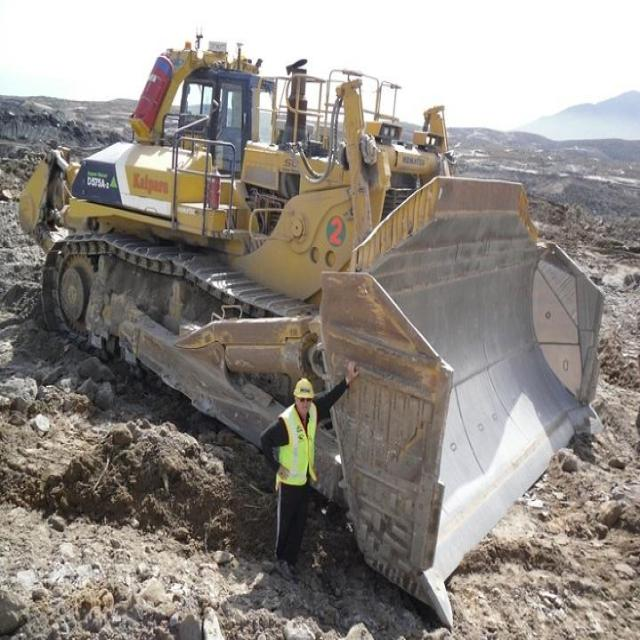buldozerpayloadergrader: (22, 20, 614, 606)
